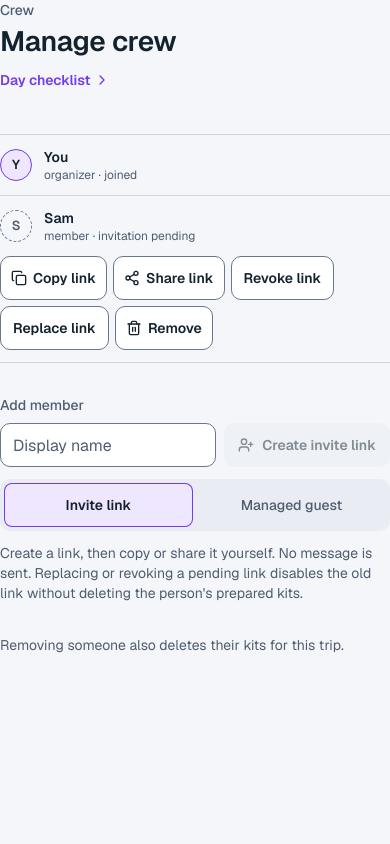
Scenario: Manage crew page › describes actual removal effects for invited with token invite-sam
The width and height of the screenshot is (390, 844).
Click the button with aria-label "Remove Sam": [164, 328] box [115, 306, 213, 350]
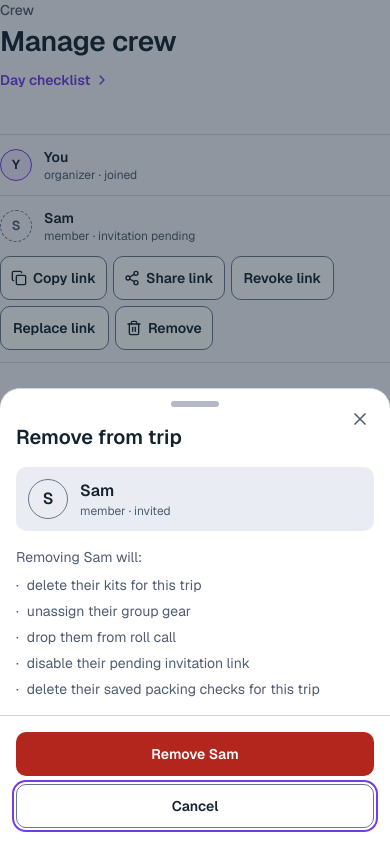
Result: the list item "delete their kits for this trip" is shown at [27, 576, 201, 594]
Result: the list item "delete their saved packing checks for this trip" is shown at [27, 680, 320, 698]
Result: the list item "disable their pending invitation link" is shown at [27, 654, 250, 672]
